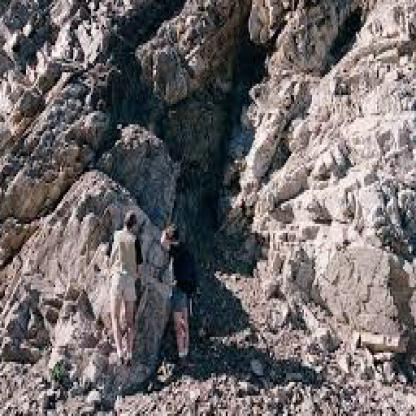Metamorphic_Quartize: (3, 156, 180, 393), (302, 230, 414, 352)
